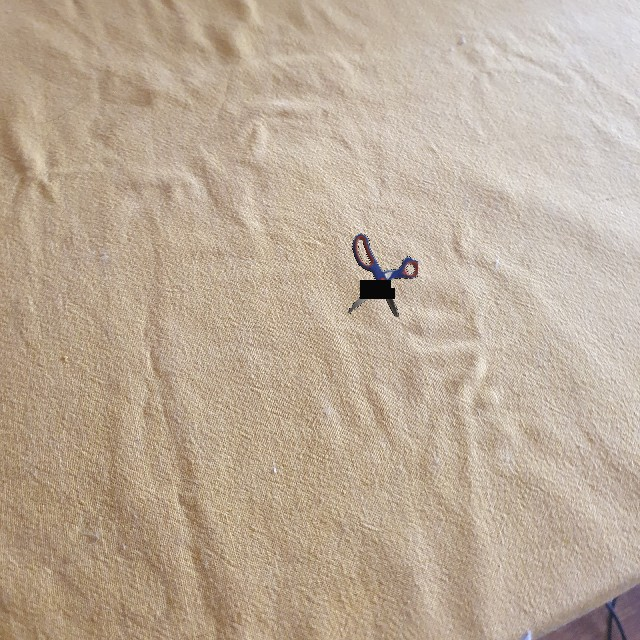scissors: (348, 233, 418, 317)
